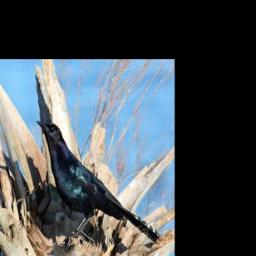Crow: (36, 120, 160, 252)
